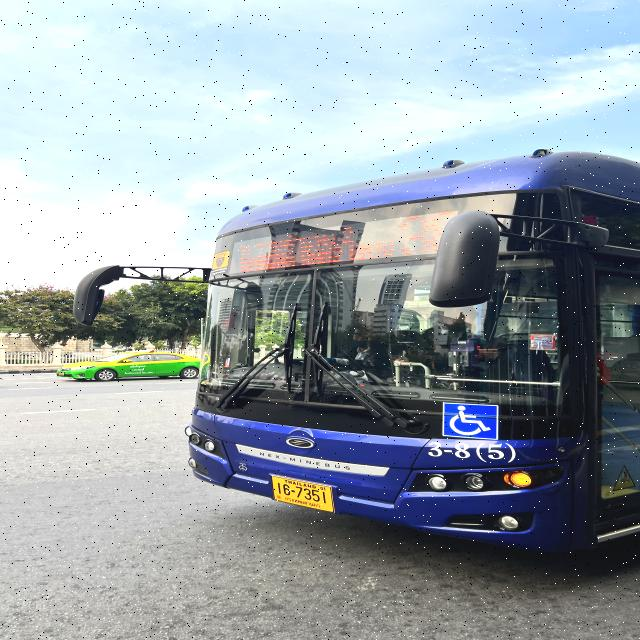Bus-Line-Number: (398, 207, 468, 257)
Destination-Sign-Normal: (226, 222, 397, 276)
TSB-Bus: (187, 150, 640, 556)
